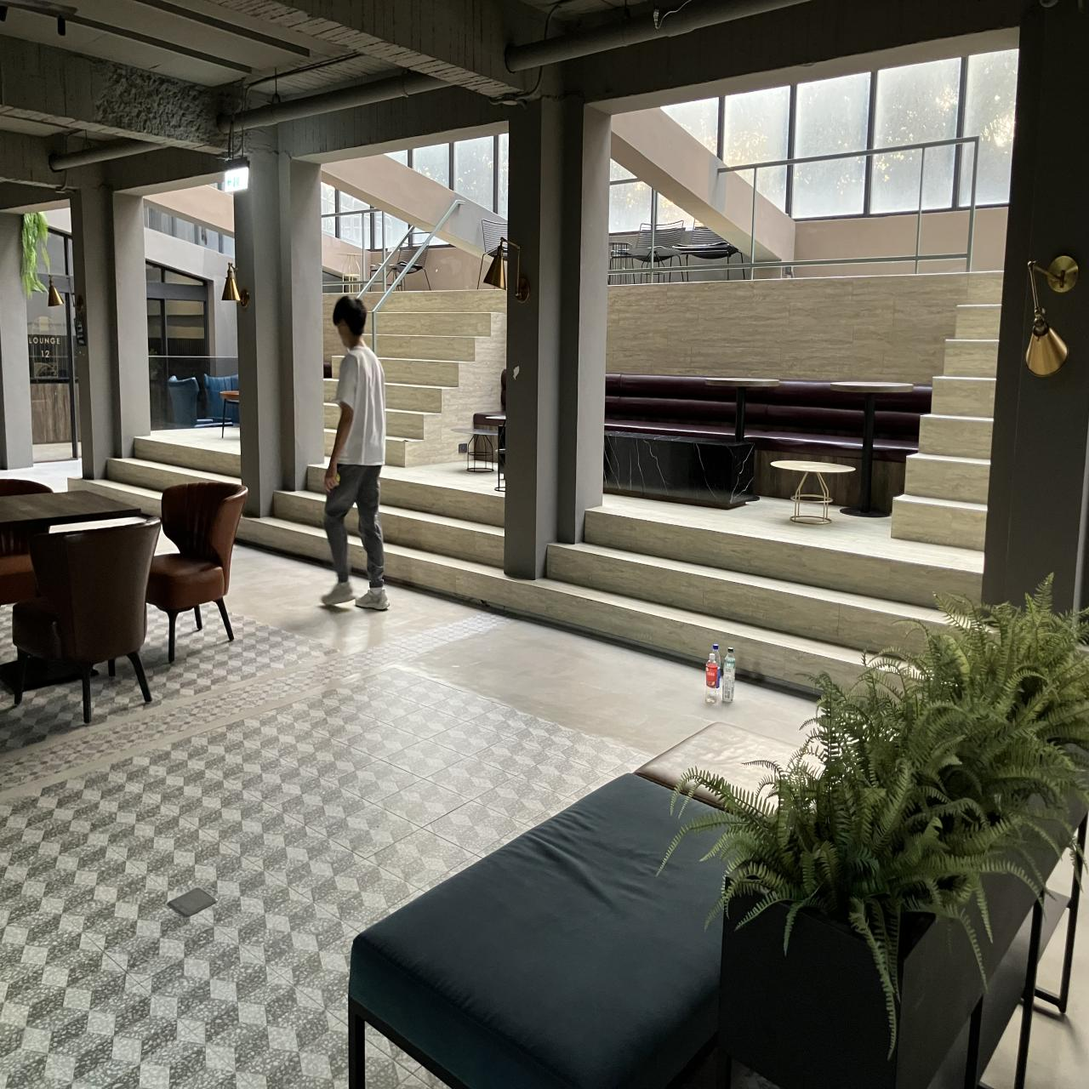person: (322, 297, 388, 610)
plastic-bottle: (705, 645, 721, 704), (721, 647, 736, 703), (712, 644, 723, 700)
